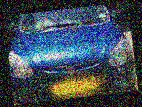car: (5, 2, 137, 105)
